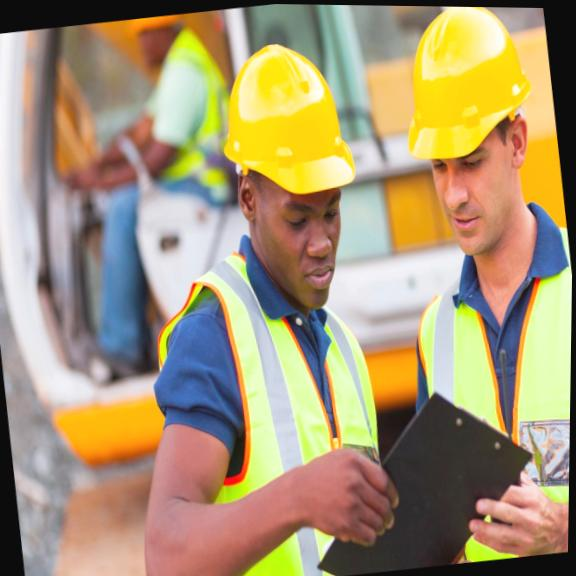safety_vest: (144, 237, 417, 576), (394, 229, 573, 568)
